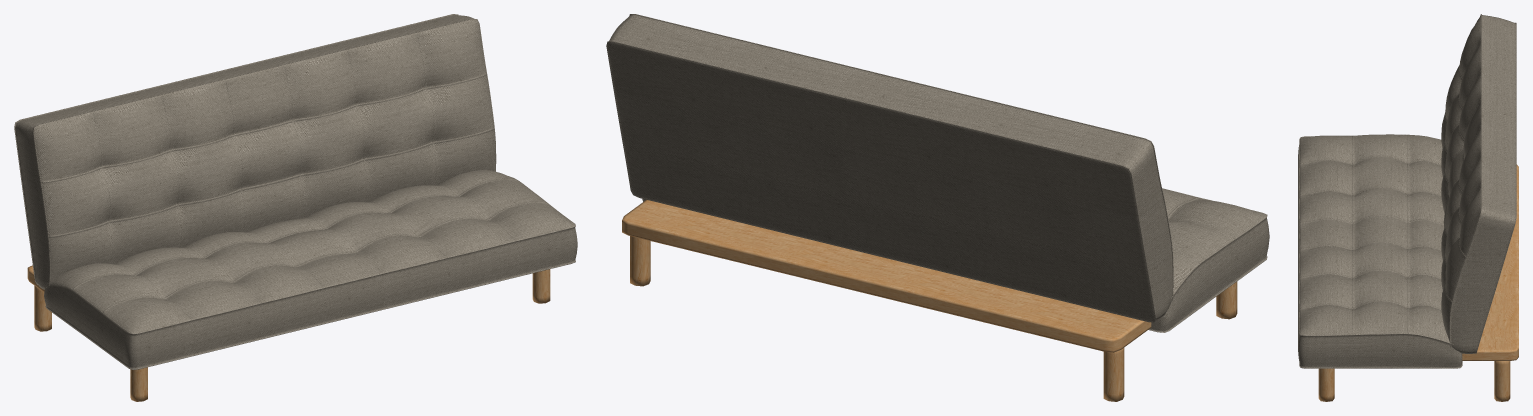
File: design17.obj
The picture shows the model from 3 angles, left to right: view 1: azimuth 30°, elevation 25°; view 2: azimuth 150°, elevation 25°; view 3: azimuth 270°, elevation 25°; orthographic projection. The views are drawn at different scales.
Parts seen in each view (by area): view 1: Box092, Box091, Box088; view 2: Box092, Box087, Box091, Box088; view 3: Box091, Box092, Box087, Box088.
Part boxes in pixels (x1,y1,x2,y2): Box092: [14, 14, 496, 289]; Box091: [44, 169, 577, 369]; Box088: [34, 269, 550, 401]; Box092: [606, 14, 1173, 322]; Box087: [622, 199, 1151, 352]; Box091: [642, 188, 1269, 332]; Box088: [630, 236, 1237, 401]; Box091: [1298, 134, 1462, 368]; Box092: [1441, 14, 1516, 353]; Box087: [1462, 164, 1518, 360]; Box088: [1318, 361, 1510, 401].
Size of the model in its own units: 1795 by 825 by 837.
Materials: 2 (2 with a texture image).
